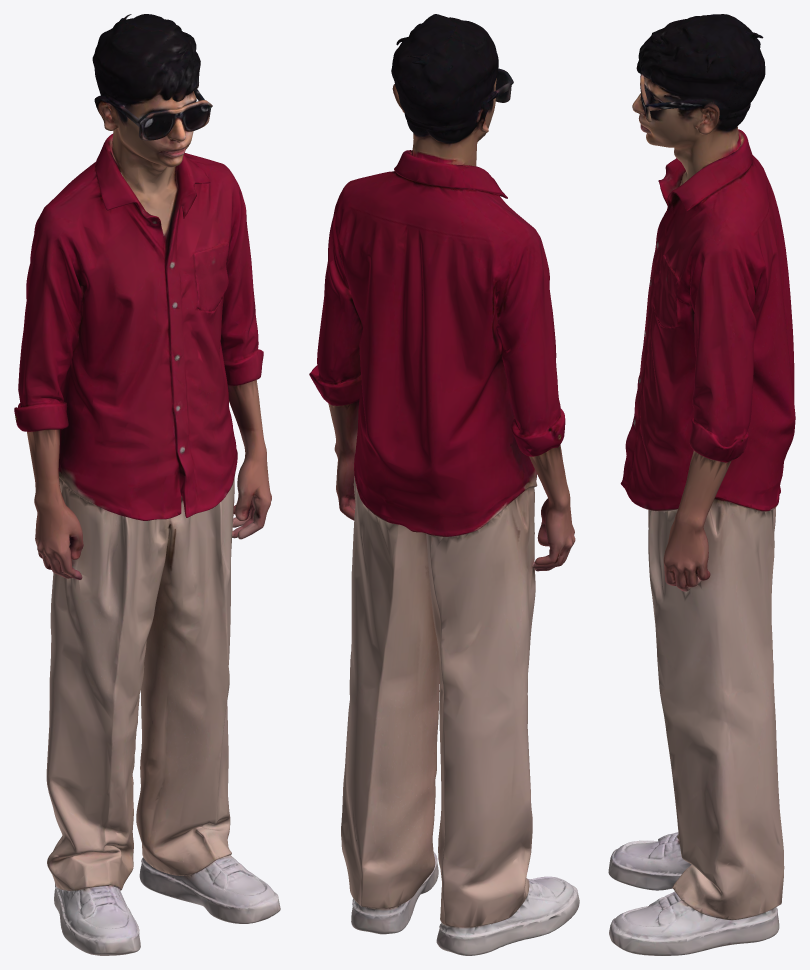
The model's file is sameer-v2-m.glb.
3 renders of one model, left to right at view 1: azimuth 30°, elevation 25°; view 2: azimuth 150°, elevation 25°; view 3: azimuth 270°, elevation 25°, orthographic.
Visible parts, largest first — view 1: node_0; view 2: node_0; view 3: node_0.
Boxes of the visible parts, box(x1,y1,x2,y2) form: node_0: box(14, 14, 280, 955); node_0: box(309, 14, 579, 955); node_0: box(608, 14, 795, 955).
Bounding box in the file's own units: 0.3406 × 1.17 × 0.2223.
Materials: 1 (1 with a texture image).
